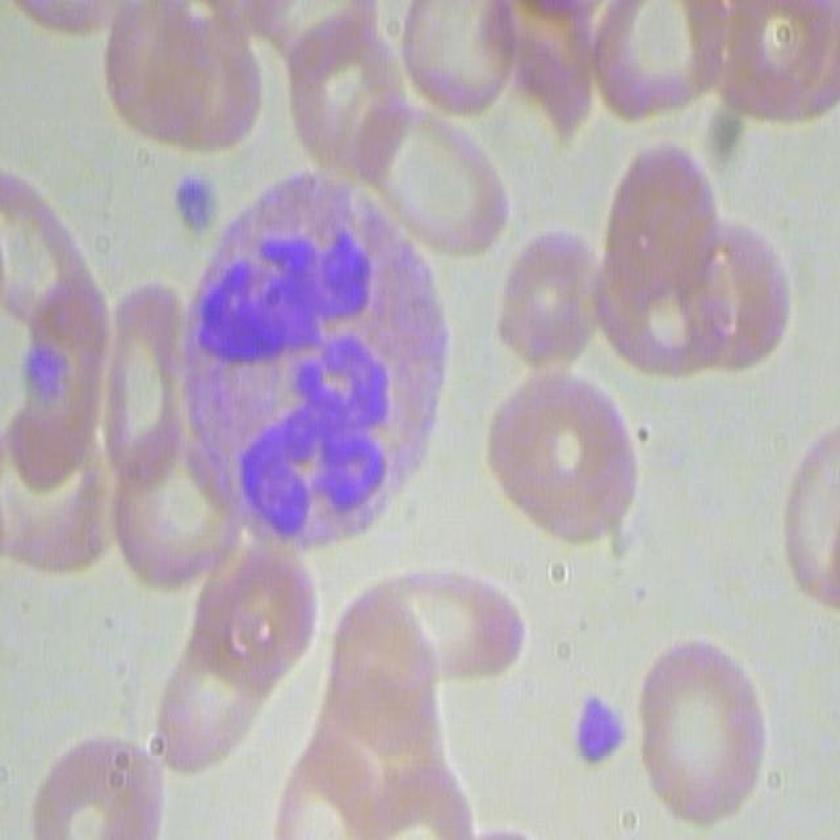neutrophil: (171, 185, 461, 554)
